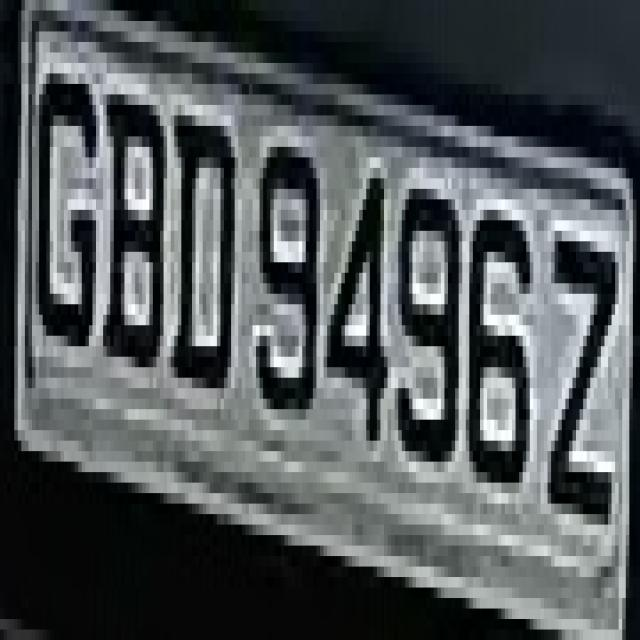4: (320, 126, 391, 462)
6: (466, 168, 533, 524)
9: (391, 147, 466, 483), (252, 116, 320, 451)
B: (100, 74, 170, 388)
D: (174, 116, 238, 410)
G: (28, 52, 96, 346)
Z: (537, 168, 622, 566)
